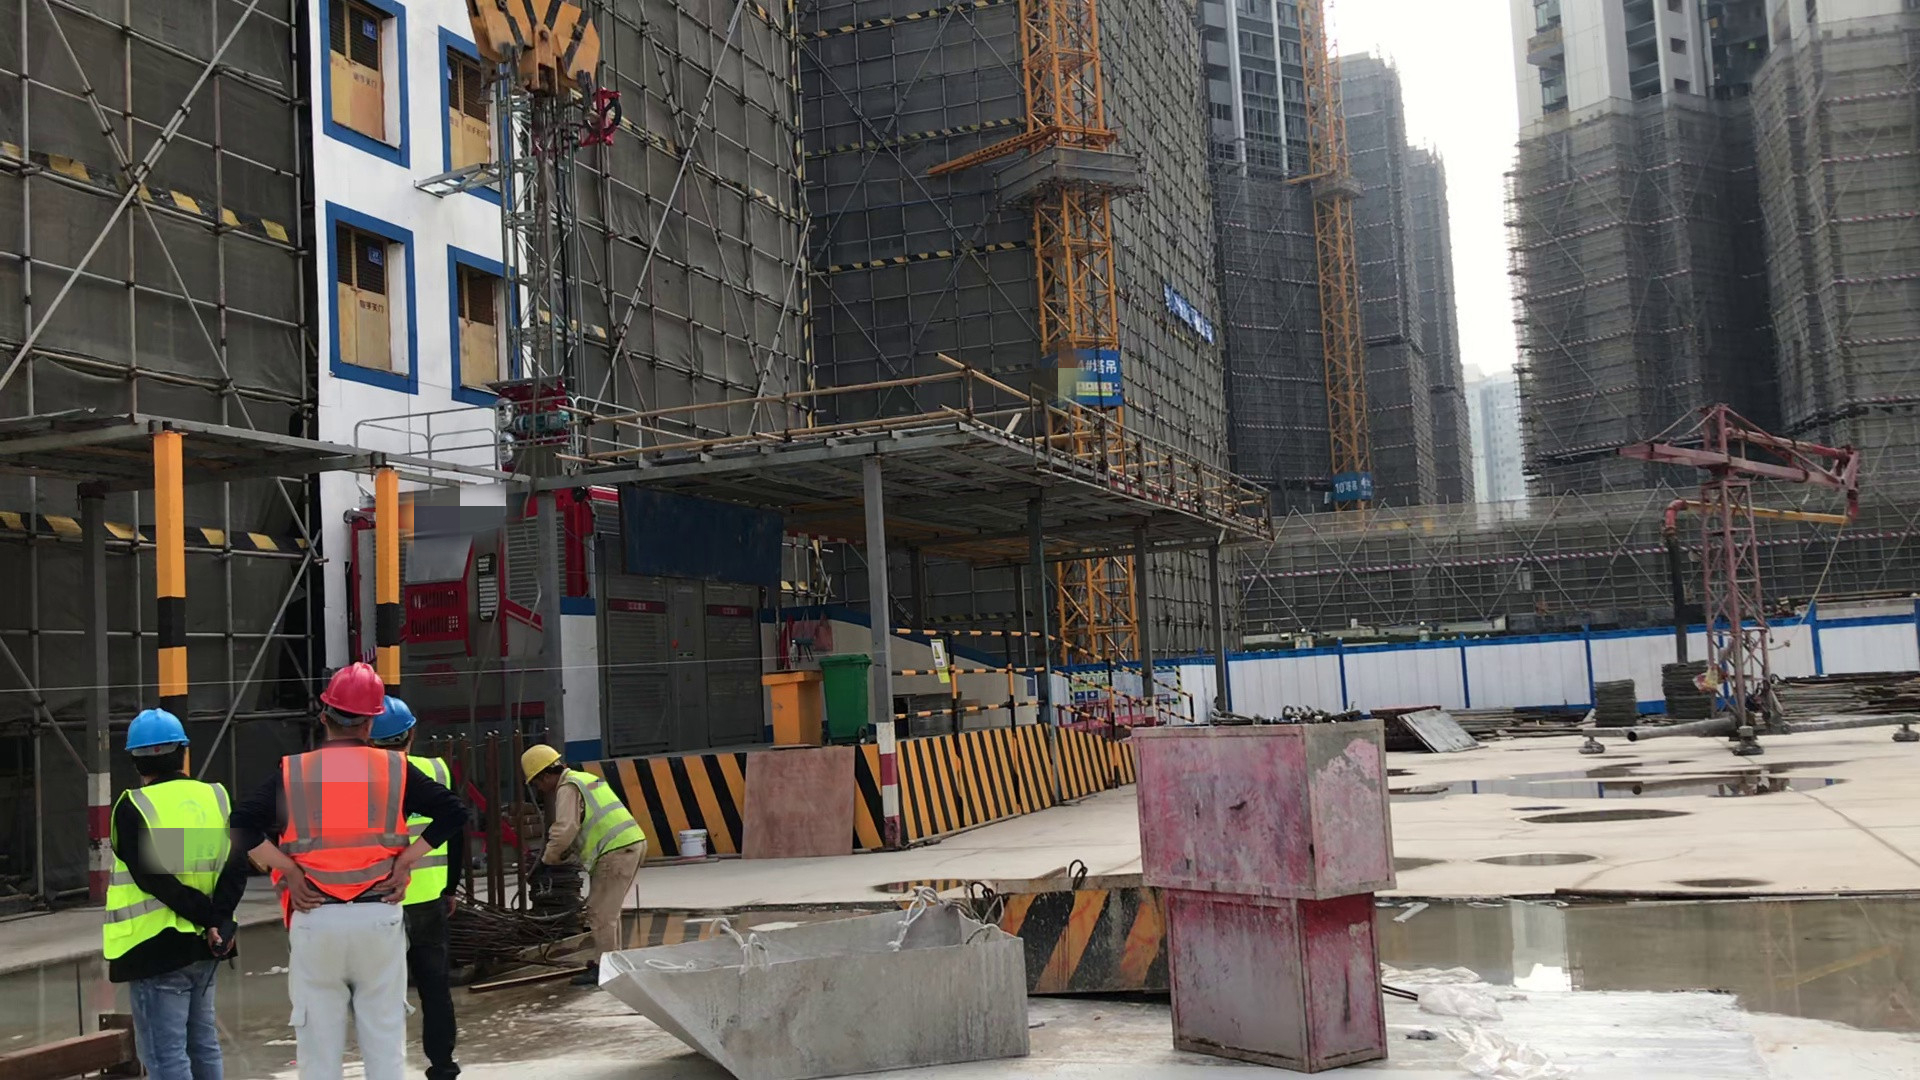fence: (875, 602, 1200, 750)
helmet: (314, 659, 393, 719), (122, 708, 193, 759), (515, 741, 574, 789), (375, 698, 425, 744)
hook: (461, 2, 638, 171)
hopper: (593, 925, 1039, 1080), (953, 865, 1179, 1004)
person: (264, 657, 450, 1080), (100, 705, 261, 1080), (515, 730, 655, 992), (375, 698, 458, 1080)
vest: (270, 744, 420, 922), (97, 779, 239, 966), (557, 768, 649, 863), (403, 754, 450, 923)
